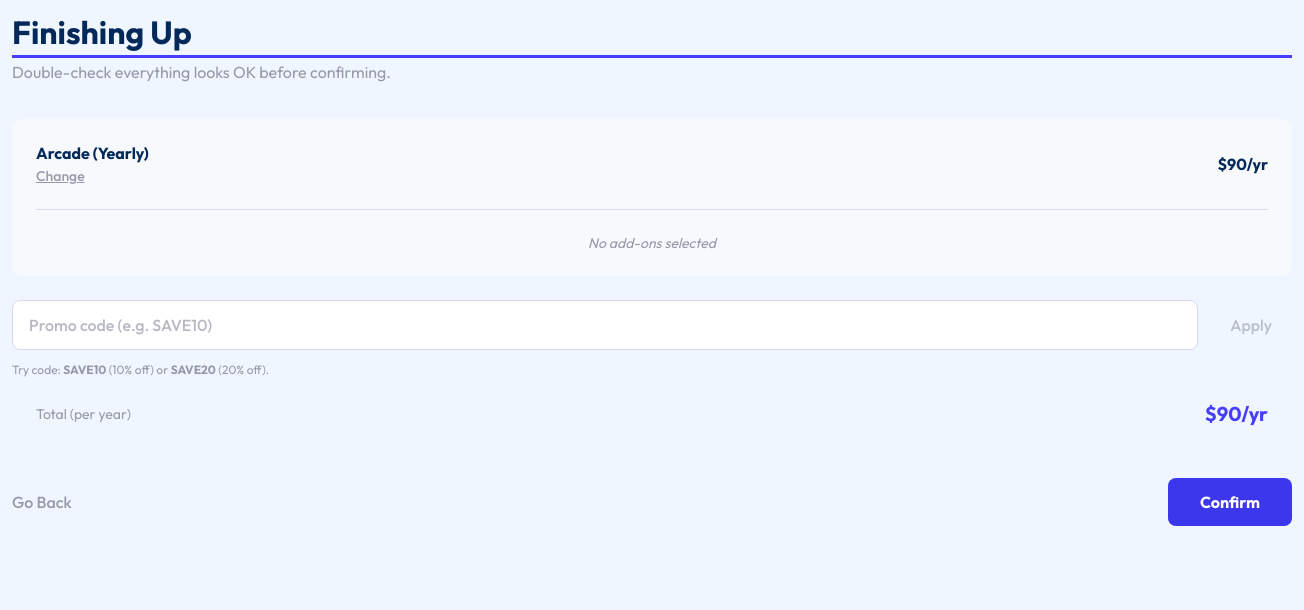
MultiStepForm Summary Step › validates async promo codes
The width and height of the screenshot is (1304, 610).
Invalid promo
Type "INVALID" into the field with placeholder "Promo code (e.g. SAVE10)" at [605, 325], box [12,300,1198,350]
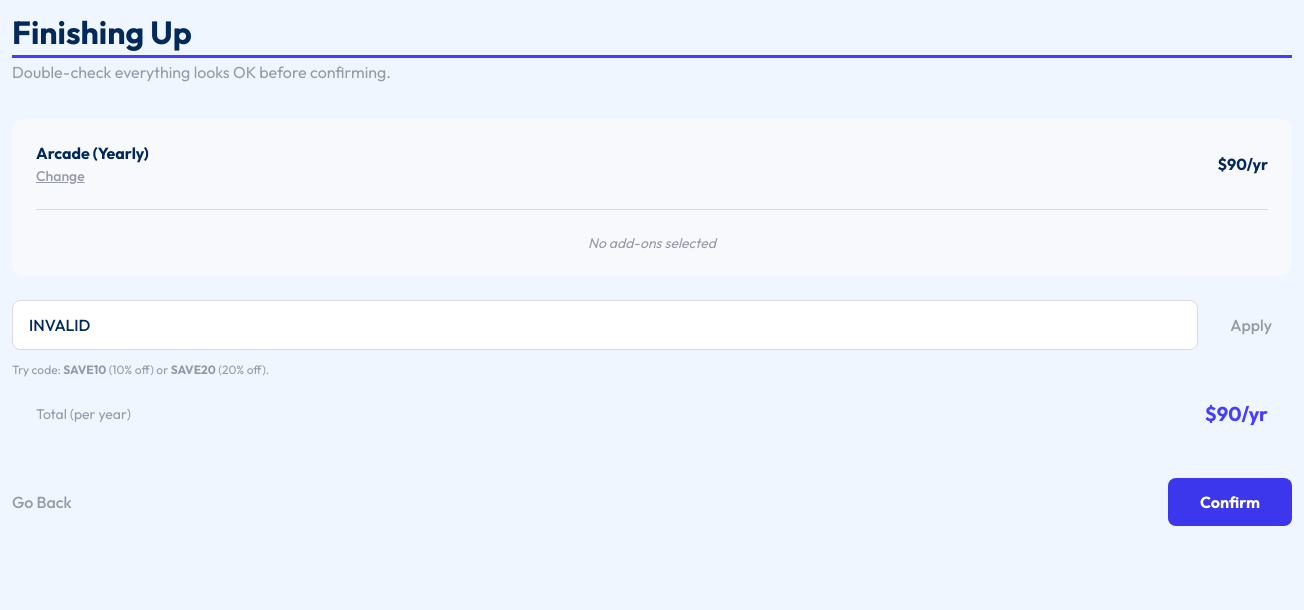
Click the button "Apply" at [1251, 325], box [1210,300,1292,350]
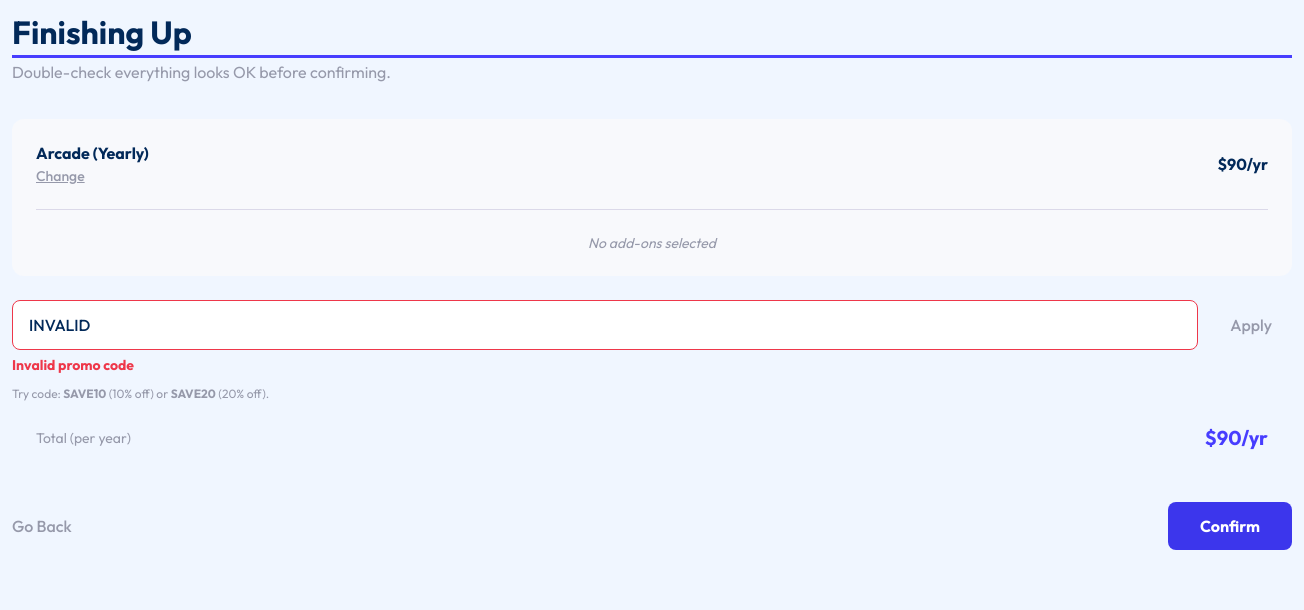
Now the text "Invalid promo code" is shown, box [12,356,134,374]
Valid promo
Replace the text in the field with placeholder "Promo code (e.g. SAVE10)" with "SAVE10" at [605, 325], box [12,300,1198,350]
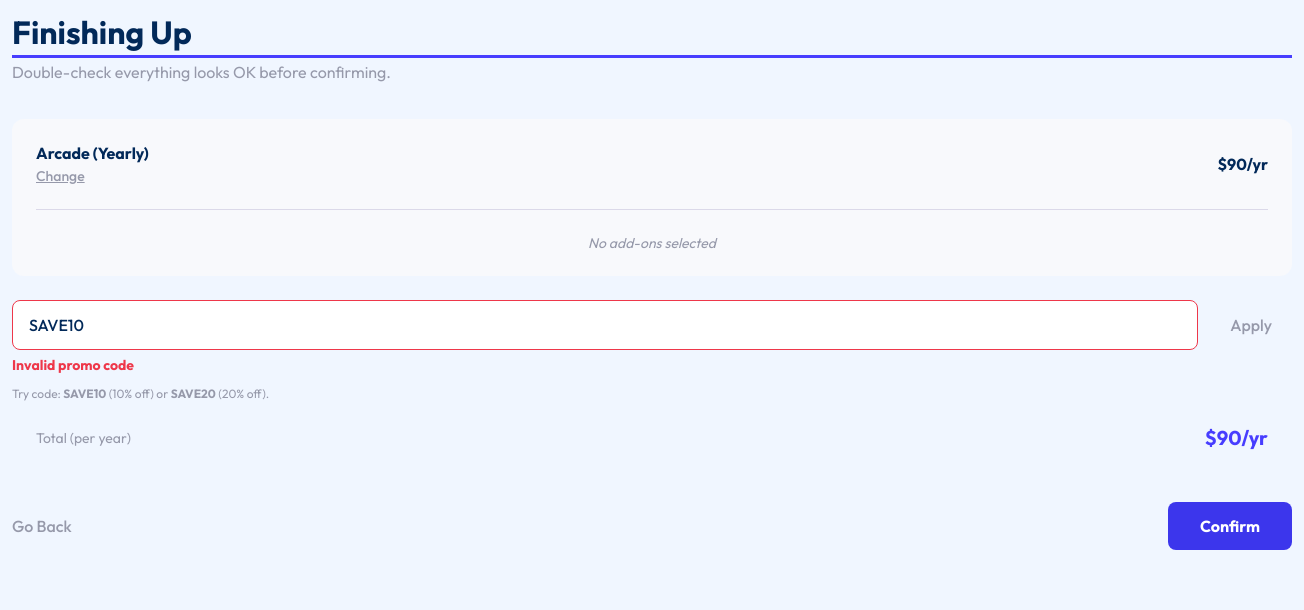
Click the button "Apply" at [1251, 325], box [1210,300,1292,350]
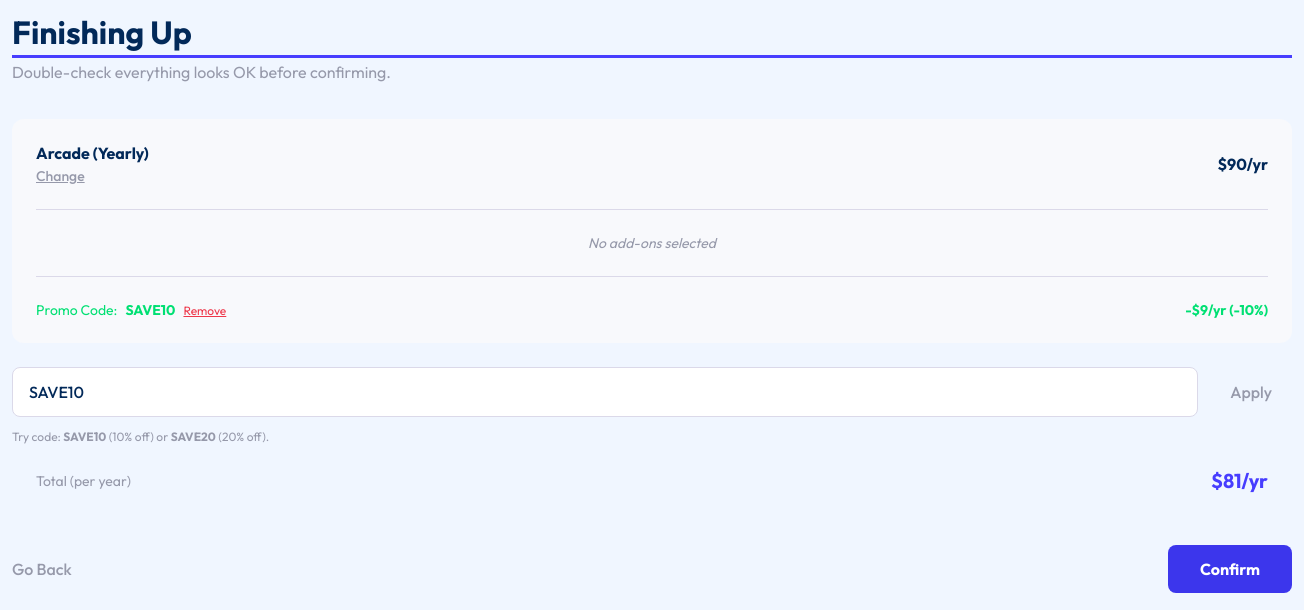
Now the text "Invalid promo code" is gone
Now the button "Remove" is shown, box [183,302,226,318]
